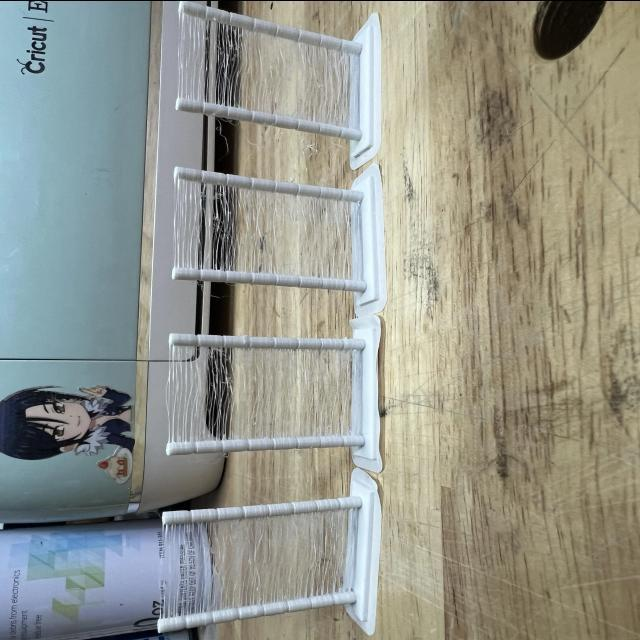Stringing: (213, 191, 236, 255), (167, 366, 183, 431)
